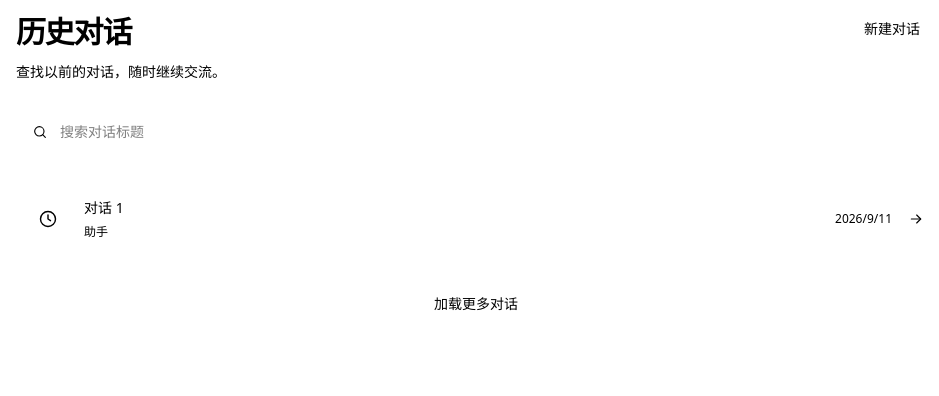
Test: keeps the first page visible when loading more fails and retries the failed page
The width and height of the screenshot is (939, 396).
Expected: the heading "对话 1" is shown, left=84, top=198, right=124, bottom=217
Click the button "加载更多对话": click(476, 304) left=410, top=284, right=542, bottom=324
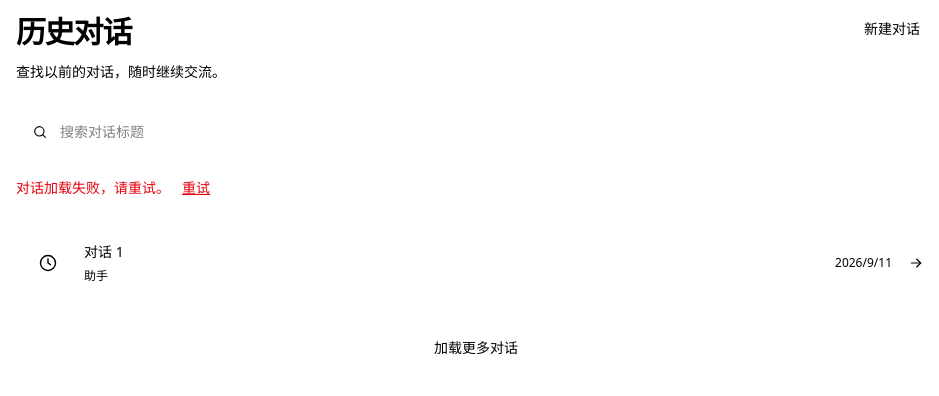
Expected: the heading "对话 1" is shown, left=84, top=242, right=124, bottom=261
Expected: the message "对话加载失败，请重试。 重试" is shown, left=16, top=178, right=210, bottom=198
Click the button "重试": click(196, 188) left=182, top=178, right=210, bottom=198
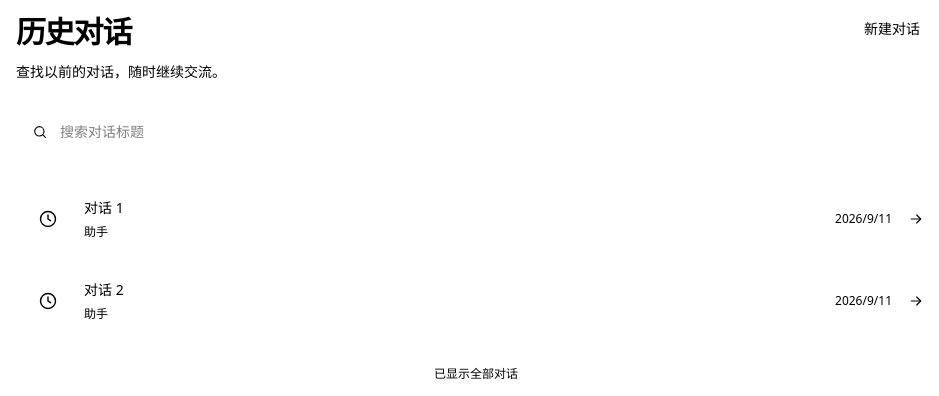
Expected: the heading "对话 1" is shown, left=84, top=198, right=124, bottom=217
Expected: the heading "对话 2" is shown, left=84, top=280, right=124, bottom=299
Expected: the message "对话加载失败，请重试。 重试" is gone
